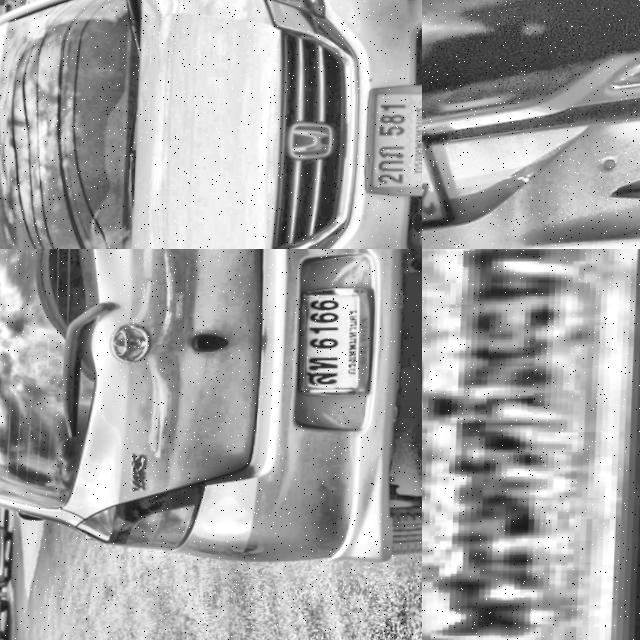license-plate: (422, 249, 640, 640), (495, 164, 640, 249), (294, 284, 379, 400), (358, 82, 422, 200)
